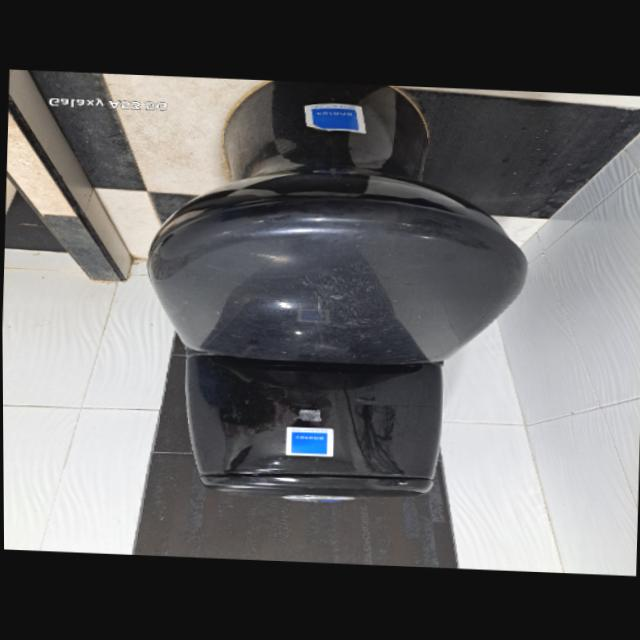toilet: (135, 75, 534, 511)
